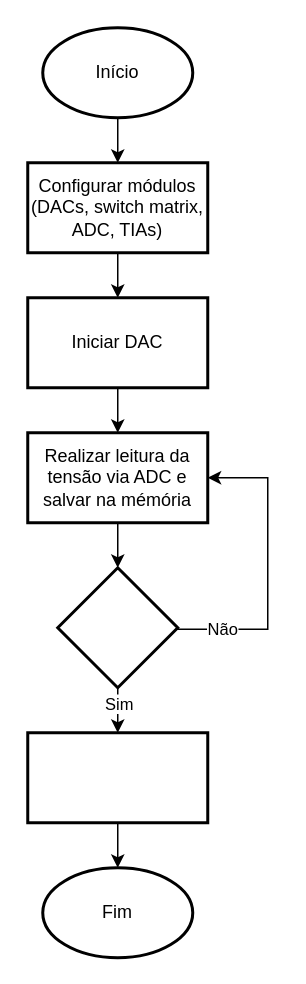
This 306x984 diagram has some shape labels left out. Here are the shapes that lost their labels. From the top down, the centre of each, then its label:
At (x=117, y=627): "Memória cheia?".
At (x=117, y=777): "Gerar interrupção no MCU e hibernar".
